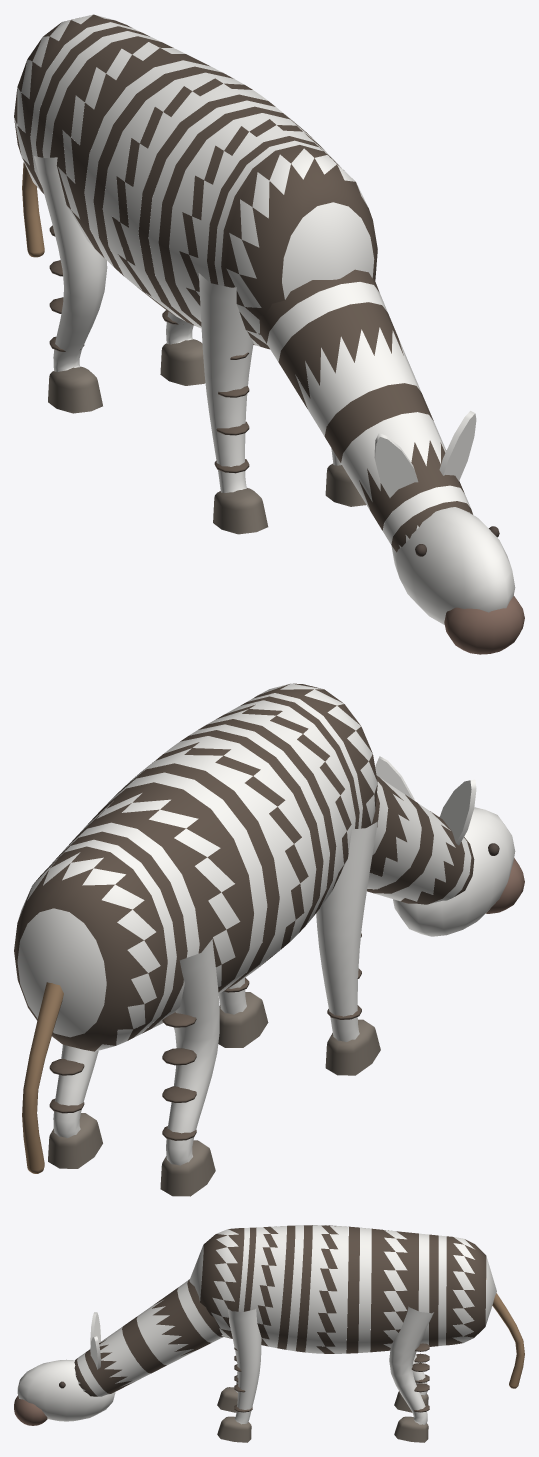
File: savanna-wildlife-zebra-grazing-f6b3681a__6567.glb
The picture shows the model from 3 angles, top to bottom: view 1: azimuth 30°, elevation 25°; view 2: azimuth 150°, elevation 25°; view 3: azimuth 270°, elevation 25°; orthographic projection. The views are drawn at different scales.
Visible parts, largest first — view 1: zebra-grazing; view 2: zebra-grazing; view 3: zebra-grazing.
Boxes of the visible parts, x1,y1,x2,y2 form: zebra-grazing: [14, 14, 524, 654]; zebra-grazing: [14, 683, 524, 1196]; zebra-grazing: [14, 1225, 524, 1442].
Bounding box in the file's own units: 0.8001 × 1.54 × 3.67.
